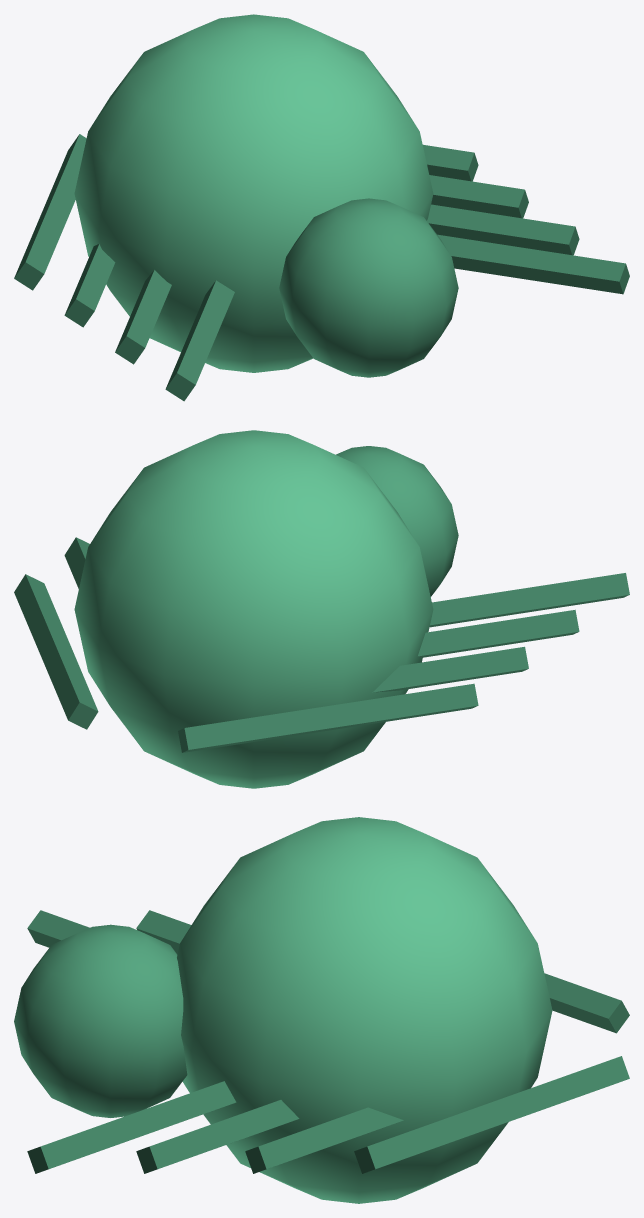
File: spider.glb
The picture shows the model from 3 angles, top to bottom: view 1: azimuth 30°, elevation 25°; view 2: azimuth 150°, elevation 25°; view 3: azimuth 270°, elevation 25°; orthographic projection. The views are drawn at different scales.
Visible parts, largest first — view 1: npc; view 2: npc; view 3: npc.
Boxes of the visible parts, <box> form: npc: <box>14,14,629,401</box>; npc: <box>14,430,629,788</box>; npc: <box>14,817,629,1203</box>.
Size of the model in its own units: 0.9564 by 0.64 by 1.02.
